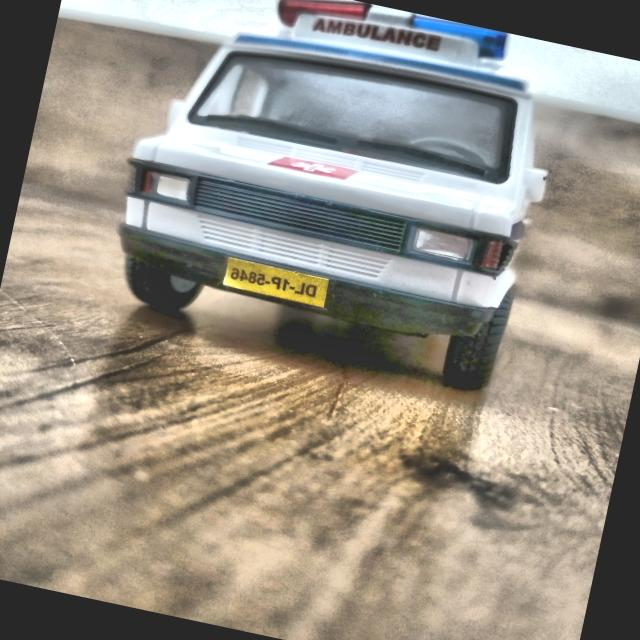Ambulance: (85, 0, 581, 407)
